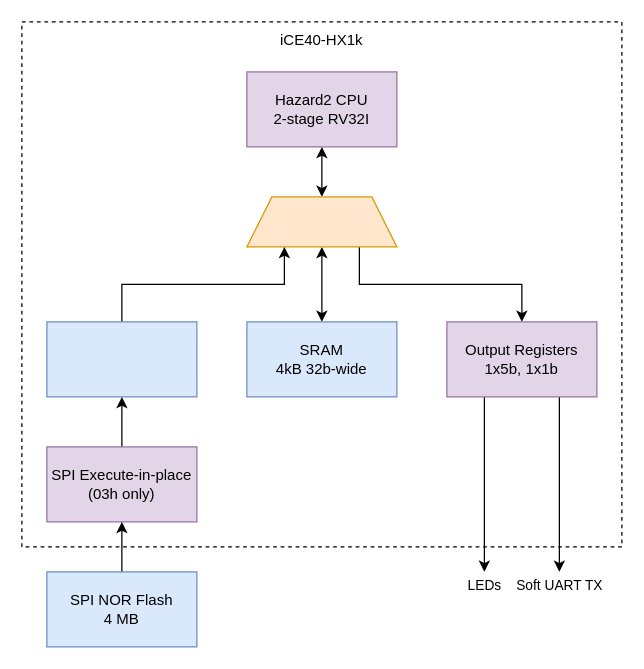
Image size: 644x669. Some labels were removed from this diagram. The shapes that lost their labels are listed below. From the top down, each one's box as (x1, y1, x2, y2) in pixels, then its label:
(246, 196, 397, 247): AHBL Splitter
(46, 321, 197, 397): Flash Cache 1kB Direct-mapped 32b-wide
